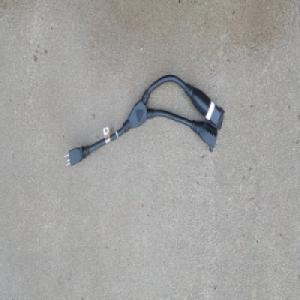Wire: (64, 73, 226, 167)
